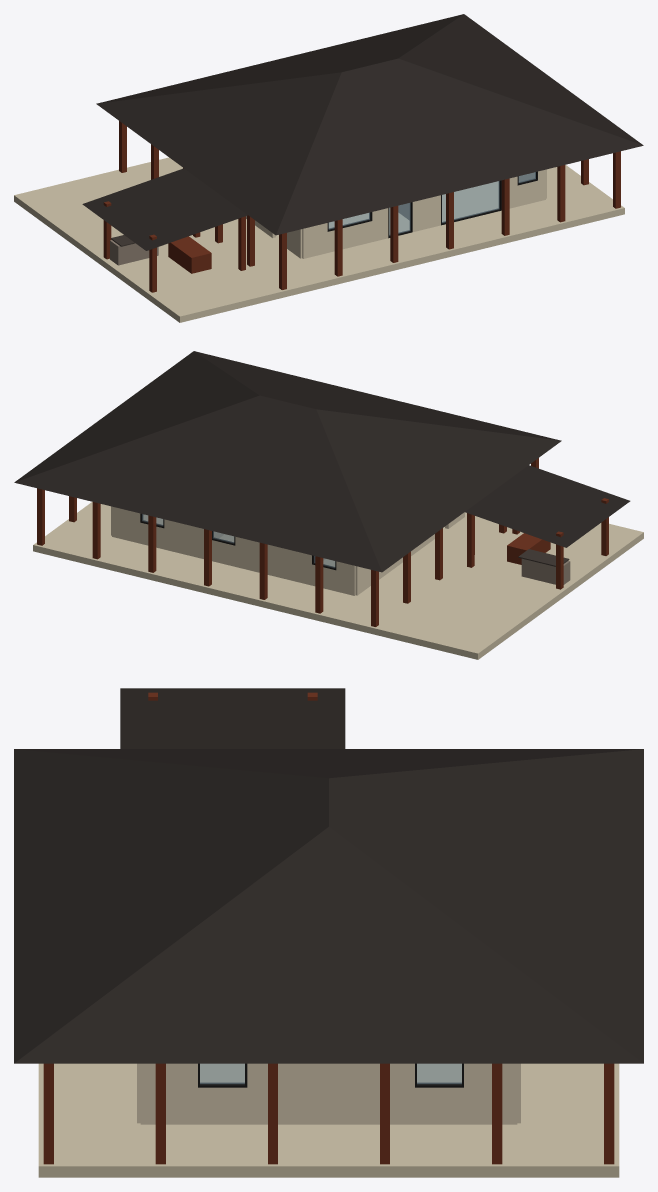
The model's file is casa.obj.
The picture shows the model from 3 angles, top to bottom: view 1: azimuth 30°, elevation 25°; view 2: azimuth 150°, elevation 25°; view 3: azimuth 270°, elevation 25°; orthographic projection. The views are drawn at different scales.
Visible parts, largest first — view 1: telha, piso, madeira, parede, vidro, bancada, esquadria; view 2: telha, piso, parede, madeira, bancada; view 3: telha, piso, parede, madeira, vidro.
Part boxes in pixels (left/top/right/bottom): telha: left=82, top=14, right=643, bottom=250; piso: left=14, top=157, right=624, bottom=322; madeira: left=103, top=121, right=620, bottom=292; parede: left=246, top=169, right=546, bottom=258; vidro: left=328, top=172, right=535, bottom=235; bancada: left=110, top=203, right=409, bottom=265; esquadria: left=327, top=171, right=537, bottom=238; telha: left=14, top=351, right=630, bottom=572; piso: left=33, top=502, right=643, bottom=659; parede: left=111, top=506, right=464, bottom=595; madeira: left=37, top=458, right=608, bottom=626; bancada: left=521, top=558, right=570, bottom=584; telha: left=14, top=688, right=643, bottom=1063; piso: left=38, top=1063, right=619, bottom=1177; parede: left=137, top=1063, right=520, bottom=1124; madeira: left=43, top=692, right=614, bottom=1164; vidro: left=200, top=1063, right=461, bottom=1083.
Size of what is drawn, in the model's own units: 23.1 by 6.15 by 15.4.
